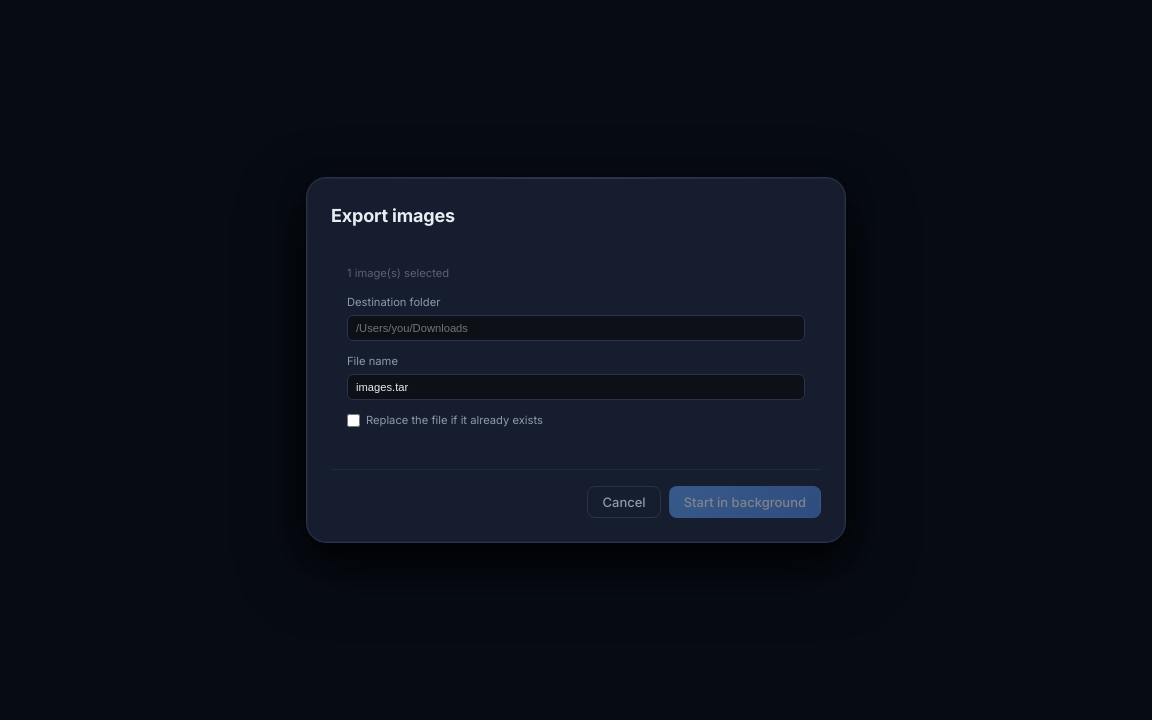
Test case: TransferDialog › keeps Start unavailable until an export names a folder and a file
Expected: the button "Start in background" is disabled, [669, 486, 821, 518]
Step 1. Type "/tmp/out" into the field with placeholder "/Users/you/Downloads" → {"x": 576, "y": 328}, box [347, 315, 805, 341]
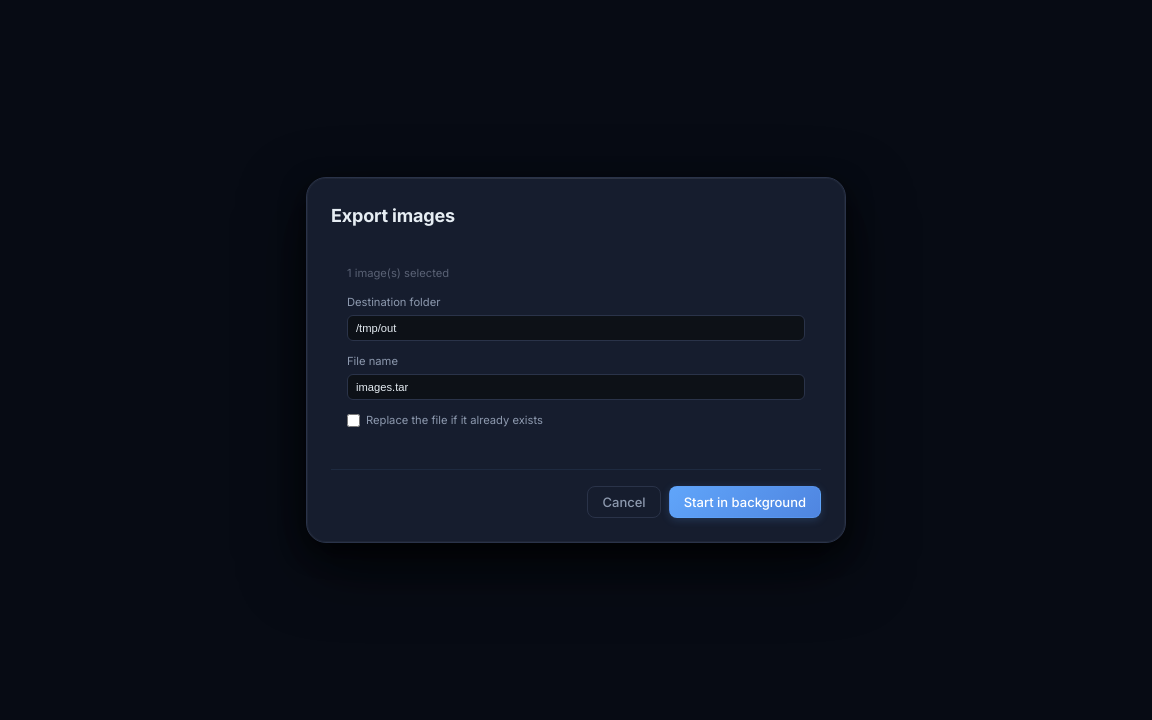
Expected: the button "Start in background" is enabled, [669, 486, 821, 518]
